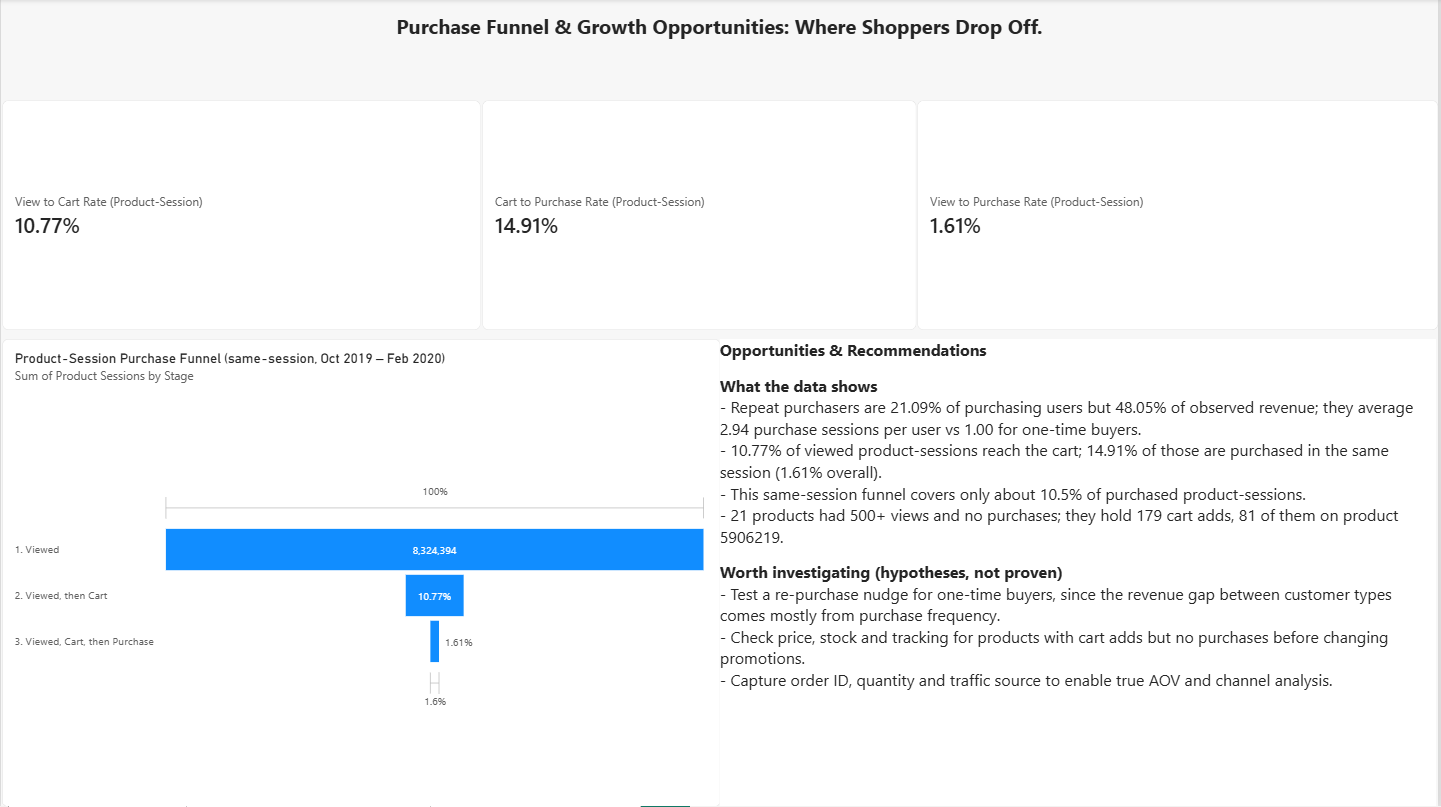

The dashboard page shown, as its layout file describes it:
{"tool":"powerbi","page":{"name":"Funnel & Opportunities","canvas":[1920,1080],"ordinal":2},"visuals":[{"type":"textbox","box":[1.8,0,1916.1,82.1],"z":0},{"type":"cardVisual","fields":{"Data":["funnel_analysis.View to Cart Rate (Product-Session)"]},"box":[1.8,135.7,639.3,307.1],"z":1},{"type":"cardVisual","fields":{"Data":["funnel_analysis.View to Purchase Rate (Product-Session)"]},"box":[1223.2,135.7,696.4,307.1],"z":2},{"type":"cardVisual","fields":{"Data":["funnel_analysis.Cart to Purchase Rate (Product-Session)"]},"box":[642.9,135.7,580.4,307.1],"z":3},{"type":"funnel","title":"Product-Session Purchase Funnel (same-session, Oct 2019 – Feb 2020)","fields":{"Category":["Funnel Stages.Stage"],"Y":["Sum(Funnel Stages.Product Sessions)"]},"box":[1.8,453.6,958.9,626.8],"z":4},{"type":"textbox","box":[960.7,453.6,957.1,626.8],"z":5}]}

Visuals, with their boxes in screenshot pixels (x1, y1, x2, y2), scaled from the page's 1920x1080 canvas onto the 1441x807 screenshot:
textbox: (1, 0, 1439, 61)
cardVisual - funnel_analysis.View to Cart Rate (Product-Session): (1, 101, 481, 331)
cardVisual - funnel_analysis.View to Purchase Rate (Product-Session): (918, 101, 1440, 331)
cardVisual - funnel_analysis.Cart to Purchase Rate (Product-Session): (483, 101, 918, 331)
"Product-Session Purchase Funnel (same-session, Oct 2019 – Feb 2020)" funnel: (1, 339, 721, 806)
textbox: (721, 339, 1439, 806)
